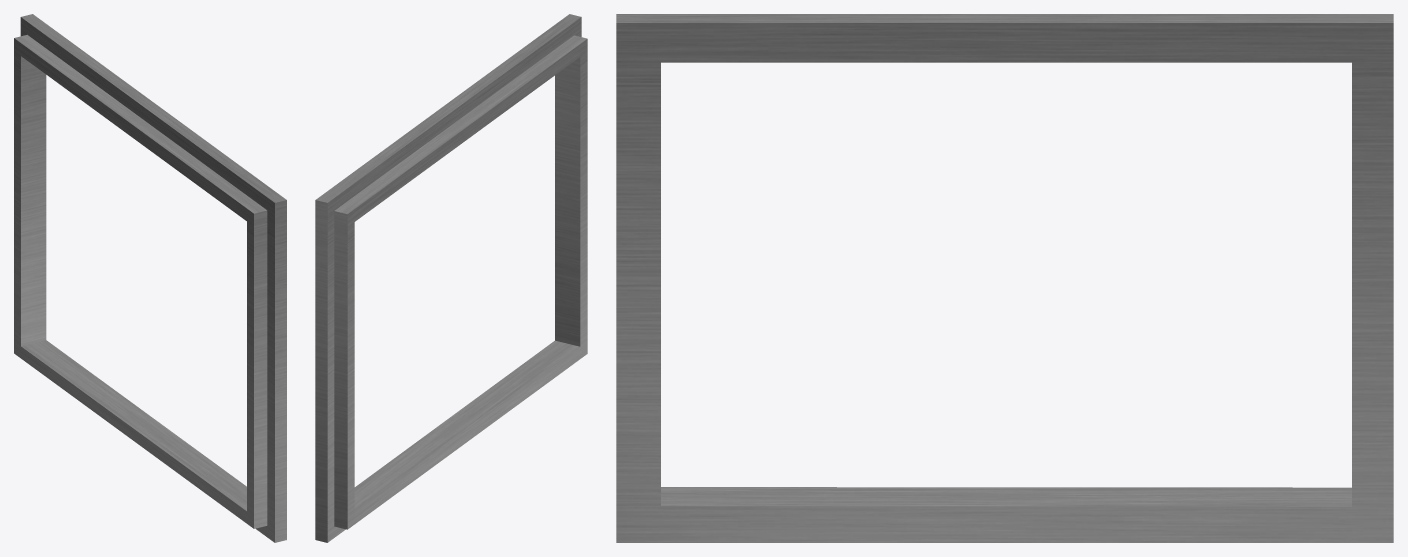
Rendered from Fireplace_metal.fbx.
The picture shows the model from 3 angles, left to right: view 1: azimuth 30°, elevation 25°; view 2: azimuth 150°, elevation 25°; view 3: azimuth 270°, elevation 25°; orthographic projection. The views are drawn at different scales.
Visible parts, largest first — view 1: pCube1; view 2: pCube1; view 3: pCube1.
Part boxes in pixels (<box>): pCube1: <box>14,14,286,542</box>; pCube1: <box>315,14,587,542</box>; pCube1: <box>616,14,1393,542</box>.
Size of the model in its own units: 6.16 by 78.64 by 107.
